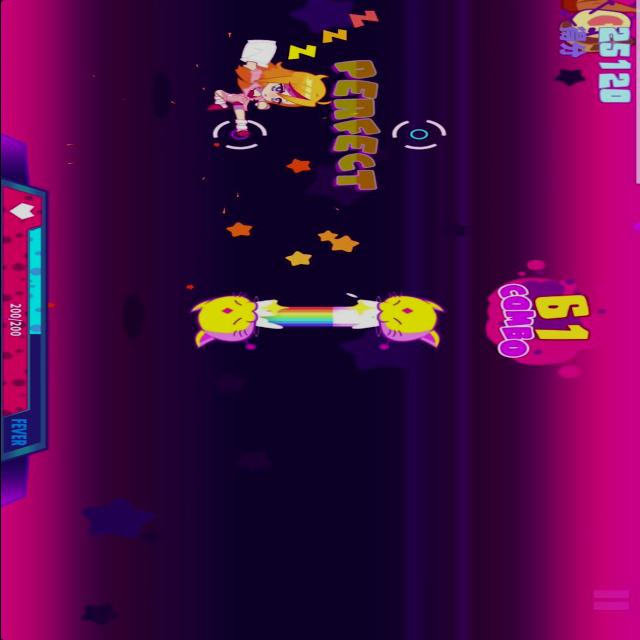shuangya: (183, 289, 449, 353)
